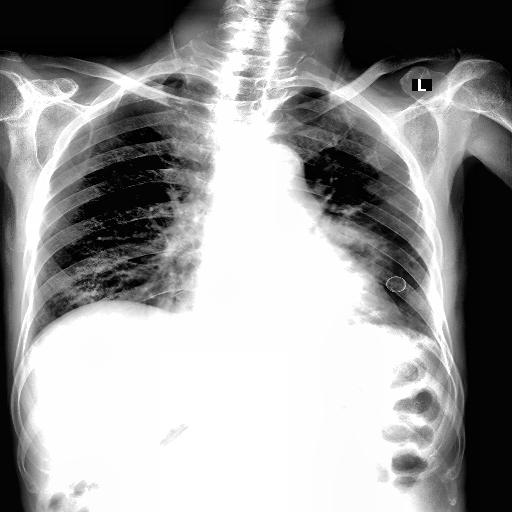0- Aortic enlargement: (242, 146, 310, 202), (248, 143, 310, 197), (240, 140, 302, 182)
3- Cardiomegaly: (170, 272, 406, 324), (174, 282, 407, 334)
7- Lung Opacity: (314, 212, 400, 323), (354, 226, 392, 278)
